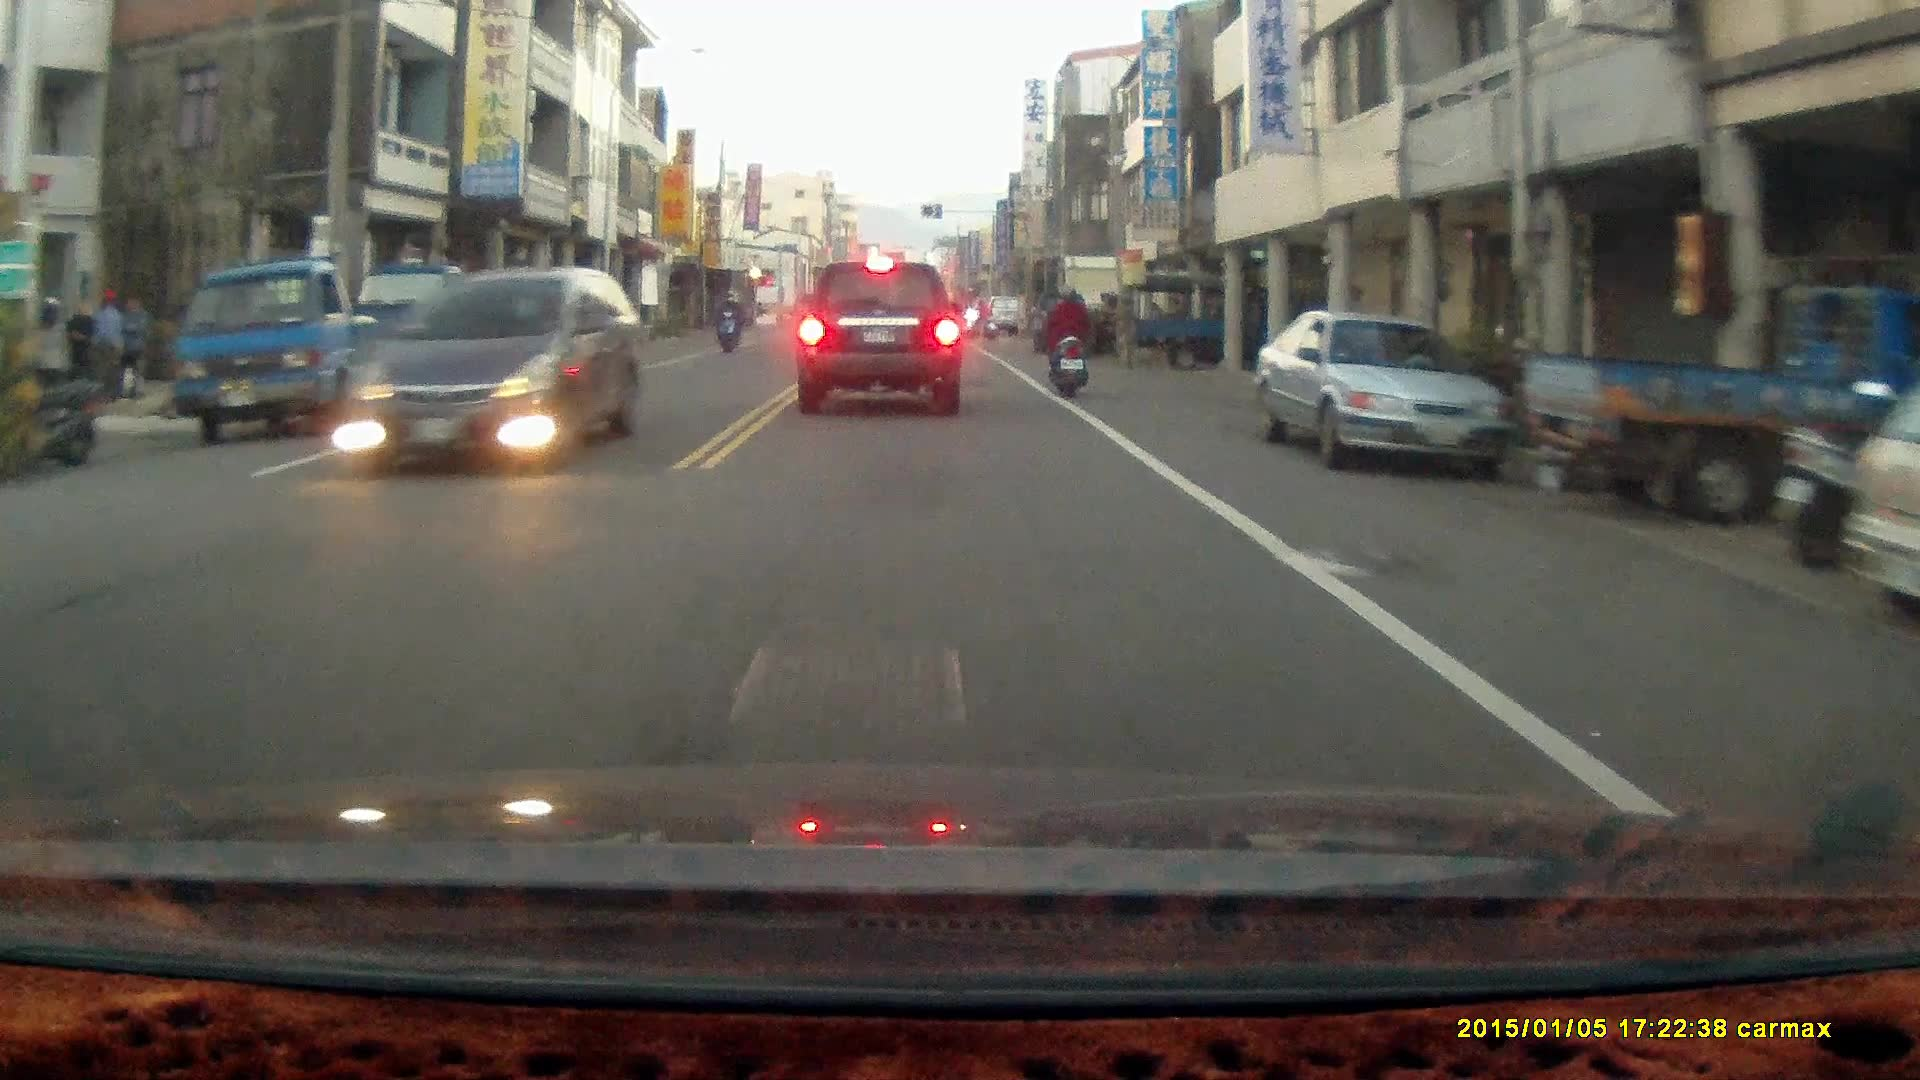pedestrian: (29, 296, 65, 414), (89, 288, 122, 408), (61, 297, 97, 397), (116, 291, 149, 402)
rider: (1043, 284, 1090, 400), (712, 293, 742, 355), (964, 299, 999, 343)
vehicle: (1527, 275, 1910, 523), (346, 267, 649, 471), (172, 257, 421, 443), (1254, 313, 1510, 474), (794, 260, 965, 425), (1128, 275, 1319, 371)
